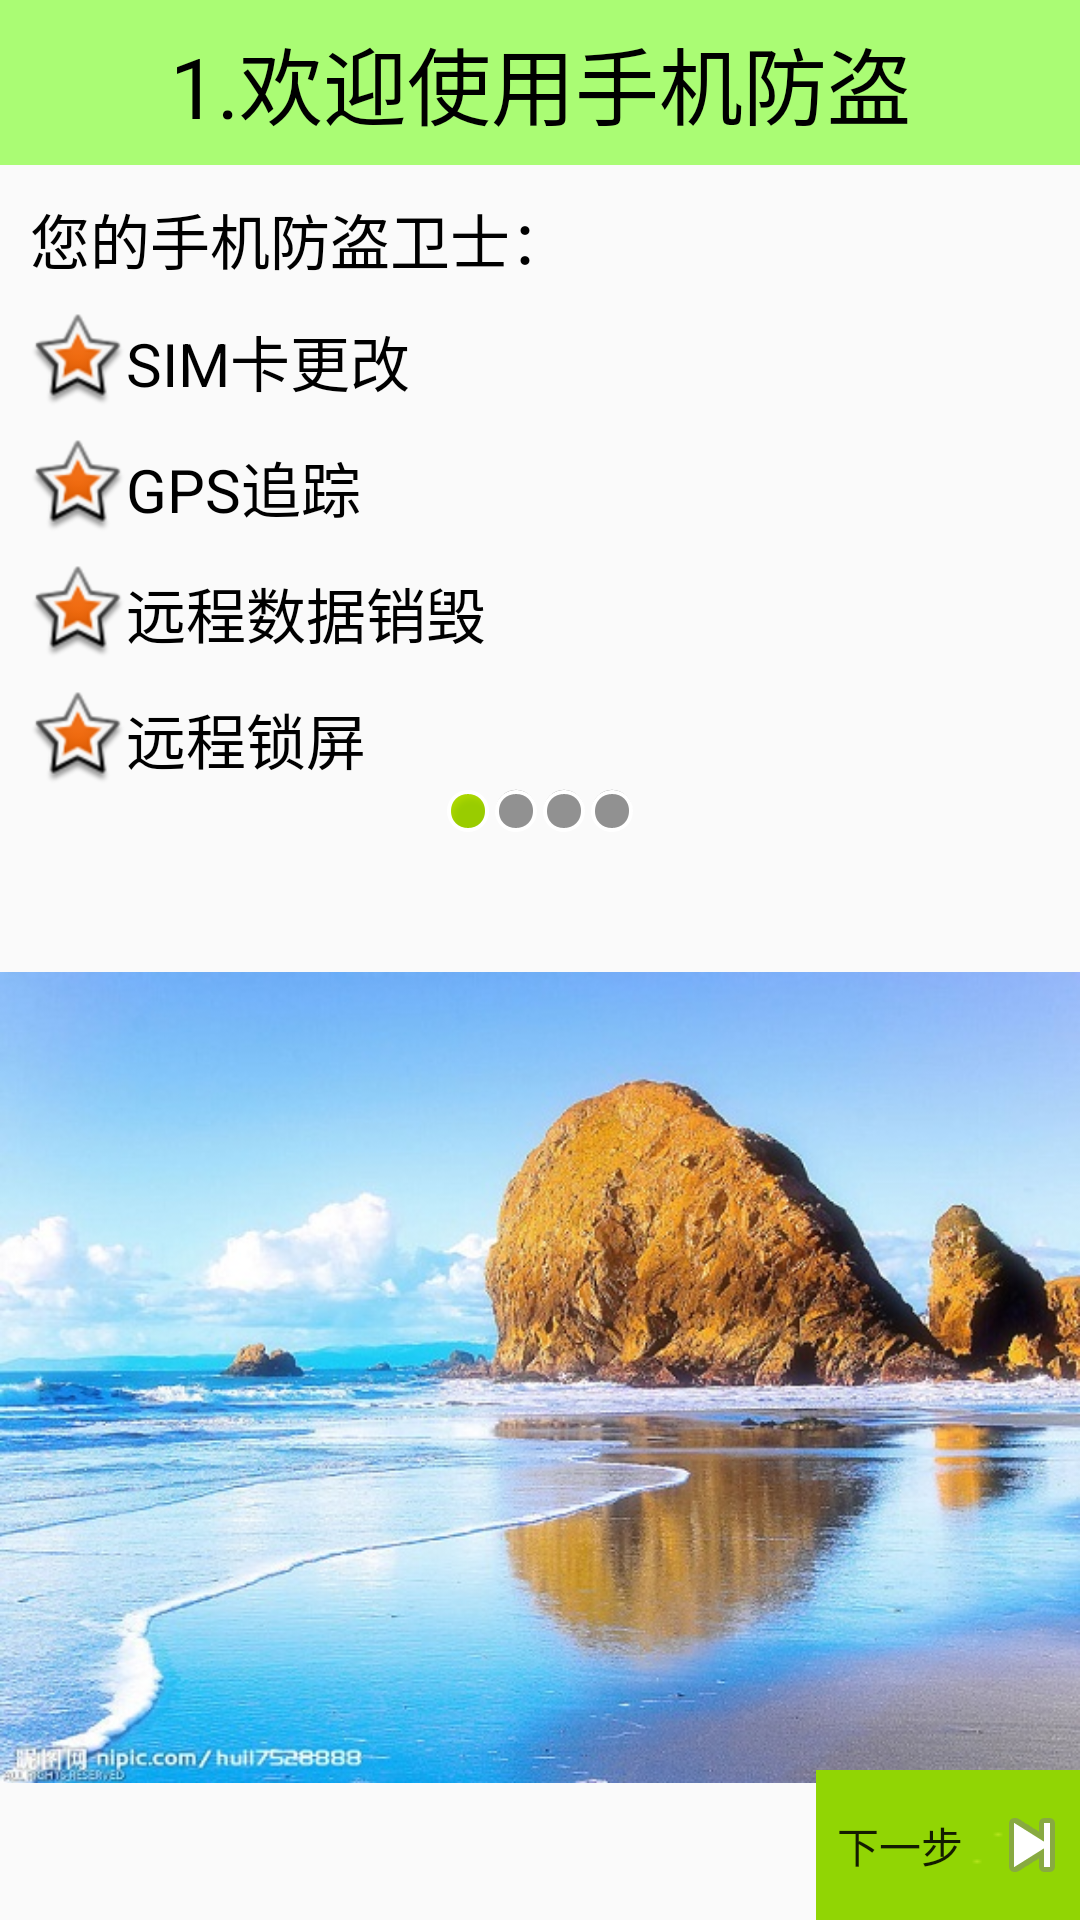

Icon click points for this 1080x1920 phone screenshot, format [x,y]:
presence invisible: [516,809], [564,809], [612,809]
presence online: [468,811]
